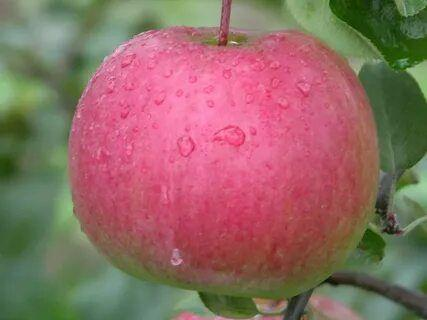Apple: (70, 28, 380, 300)
